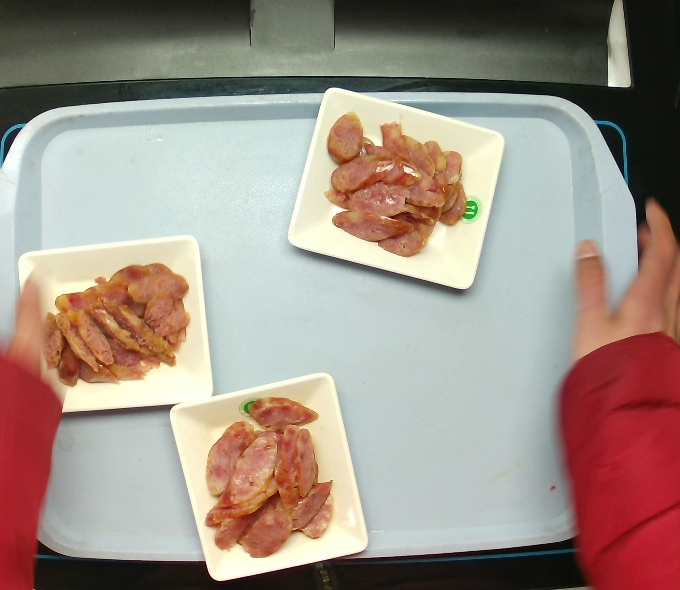wcq-QiePianXiangChang: (320, 109, 489, 262), (195, 395, 343, 557), (36, 258, 192, 394)
